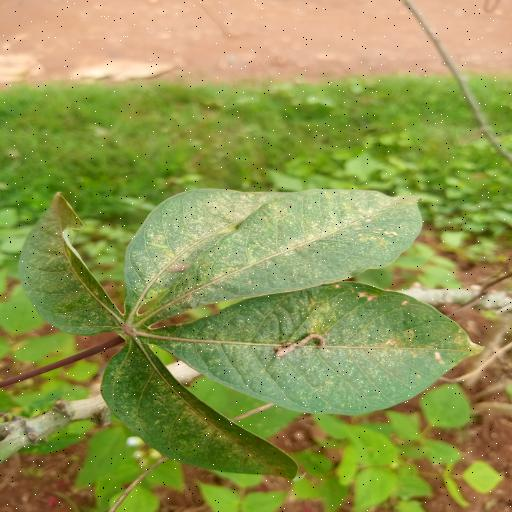Cassava_Mosaic: (18, 182, 474, 484)
